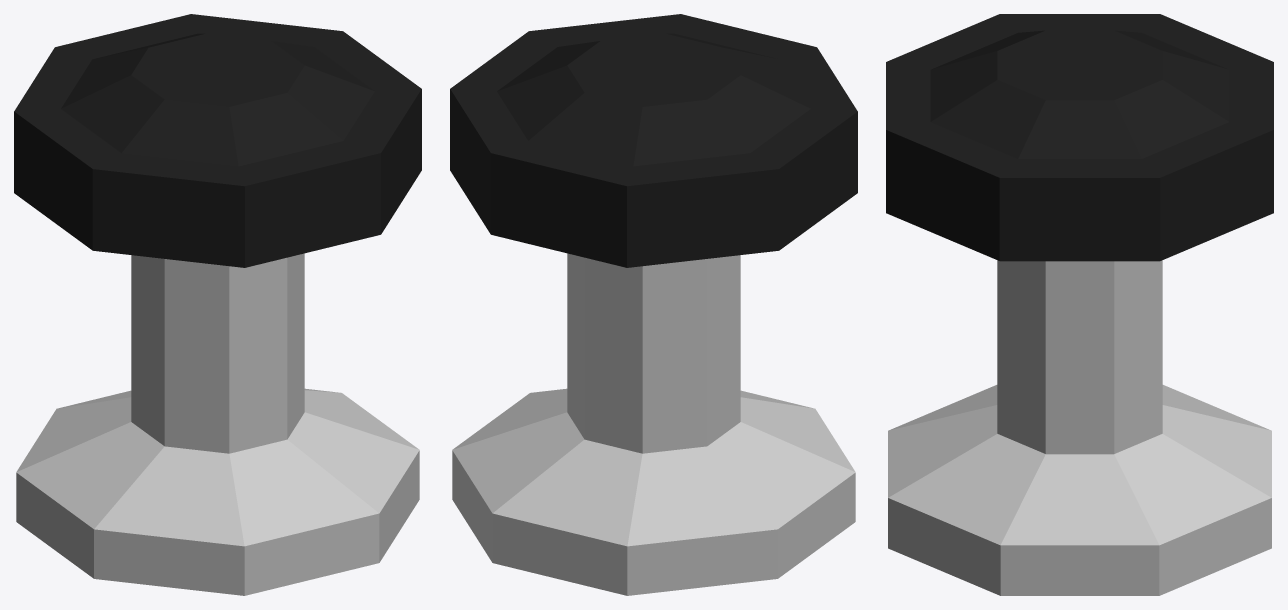
File: BarStool.fbx
3 renders of one model, left to right at view 1: azimuth 30°, elevation 25°; view 2: azimuth 150°, elevation 25°; view 3: azimuth 270°, elevation 25°, orthographic. The views are drawn at different scales.
Parts seen in each view (by area): view 1: BarStool; view 2: BarStool; view 3: BarStool.
Part boxes in pixels (left/top/right/bottom): BarStool: left=14, top=14, right=421, bottom=595; BarStool: left=450, top=14, right=857, bottom=595; BarStool: left=886, top=14, right=1273, bottom=595.
Bounding box in the file's own units: 0.56 × 0.7163 × 0.56.
